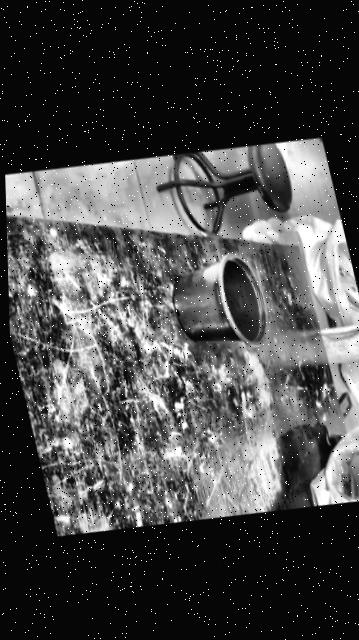pot: (163, 245, 274, 363)
